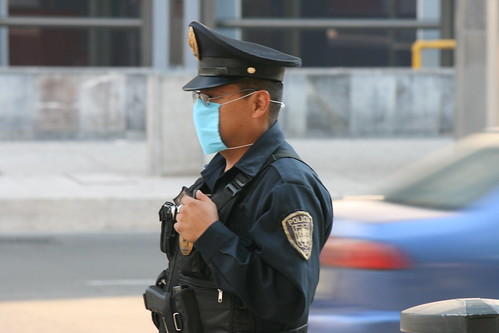mask: (188, 98, 227, 159)
